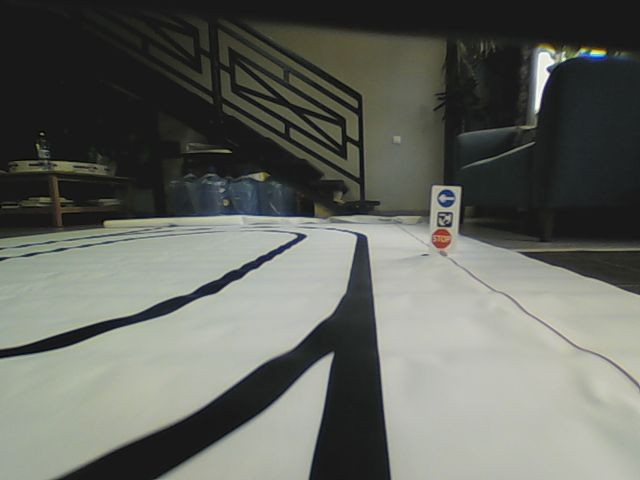Stop: (430, 229, 452, 249)
